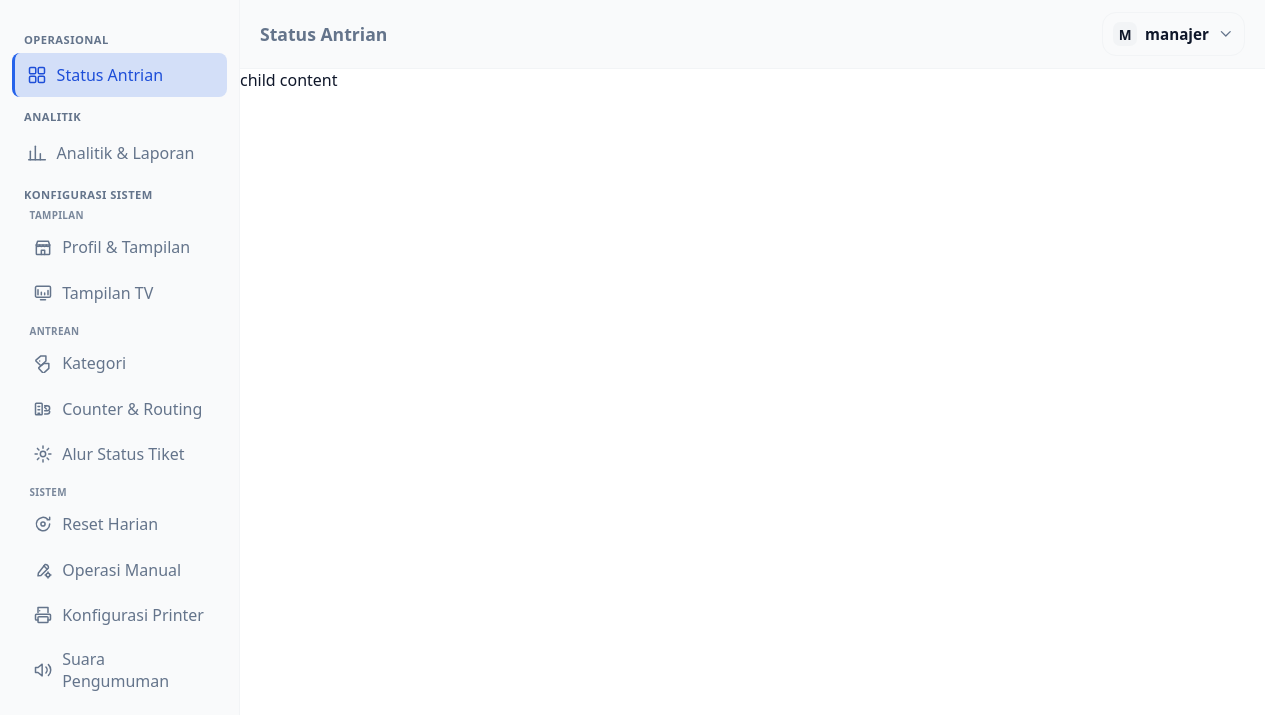
AppShell — logout outcome handling › a rejecting logout raises an error toast and releases the "Keluar…" button
This screenshot has width=1280, height=715.
Click the button "M manajer". click: (1174, 34)
box: x1=1102 y1=12 x2=1245 y2=56
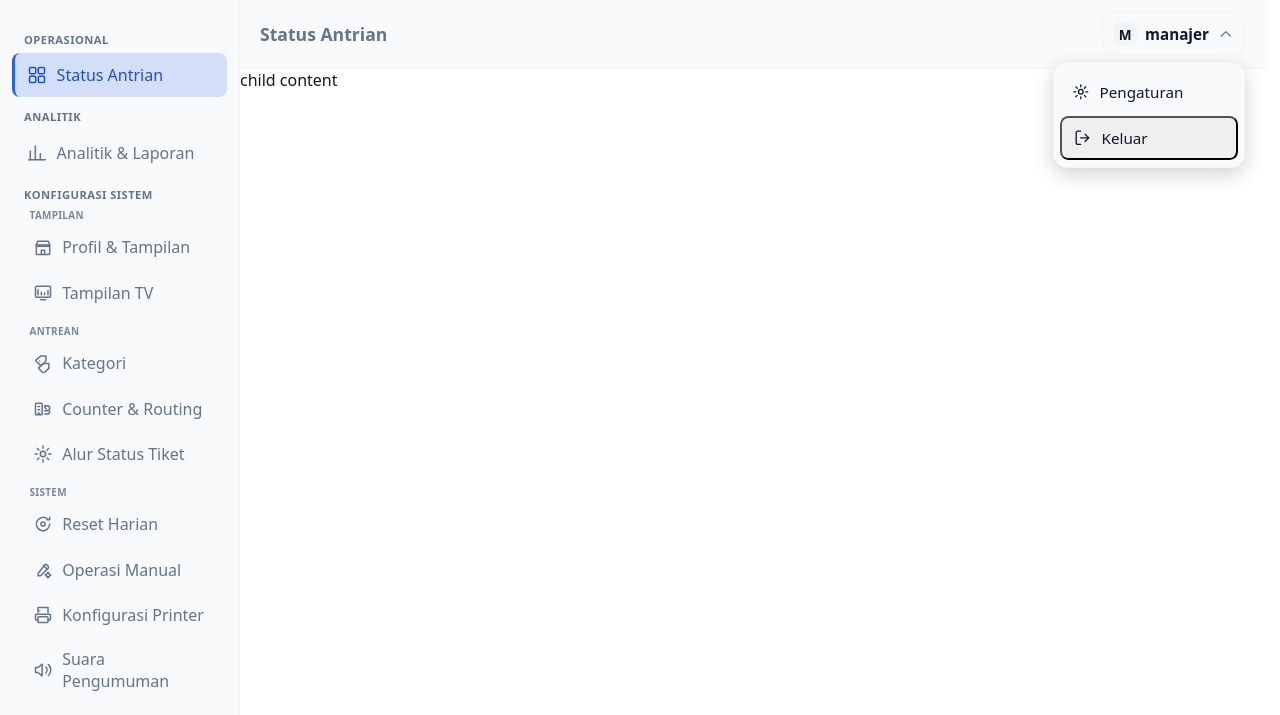
Click the menu item with test id "profile-logout". click: (1149, 138)
box: x1=1060 y1=116 x2=1238 y2=160
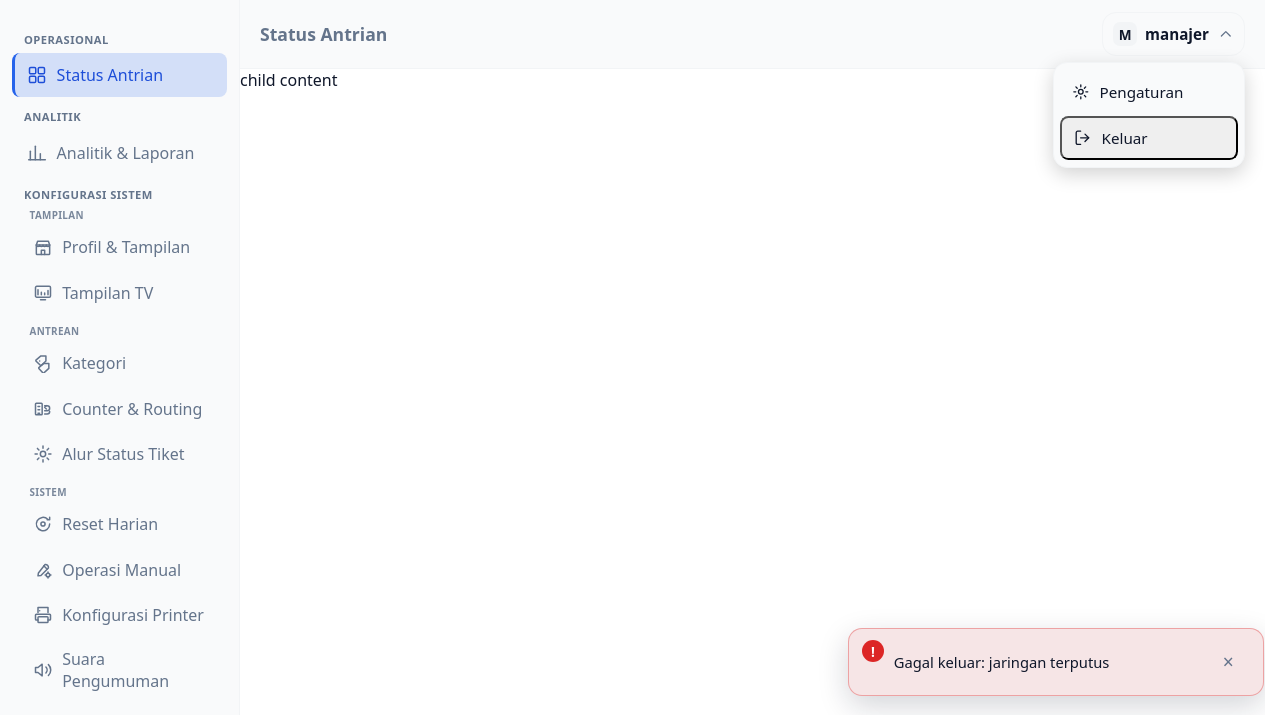
Expected: the menu item with test id "profile-logout" reads "Keluar", x1=1060 y1=116 x2=1238 y2=160
Expected: the menu item with test id "profile-logout" is enabled, x1=1060 y1=116 x2=1238 y2=160
Expected: the text "Gagal keluar: jaringan terputus" is shown, x1=894 y1=652 x2=1109 y2=672
